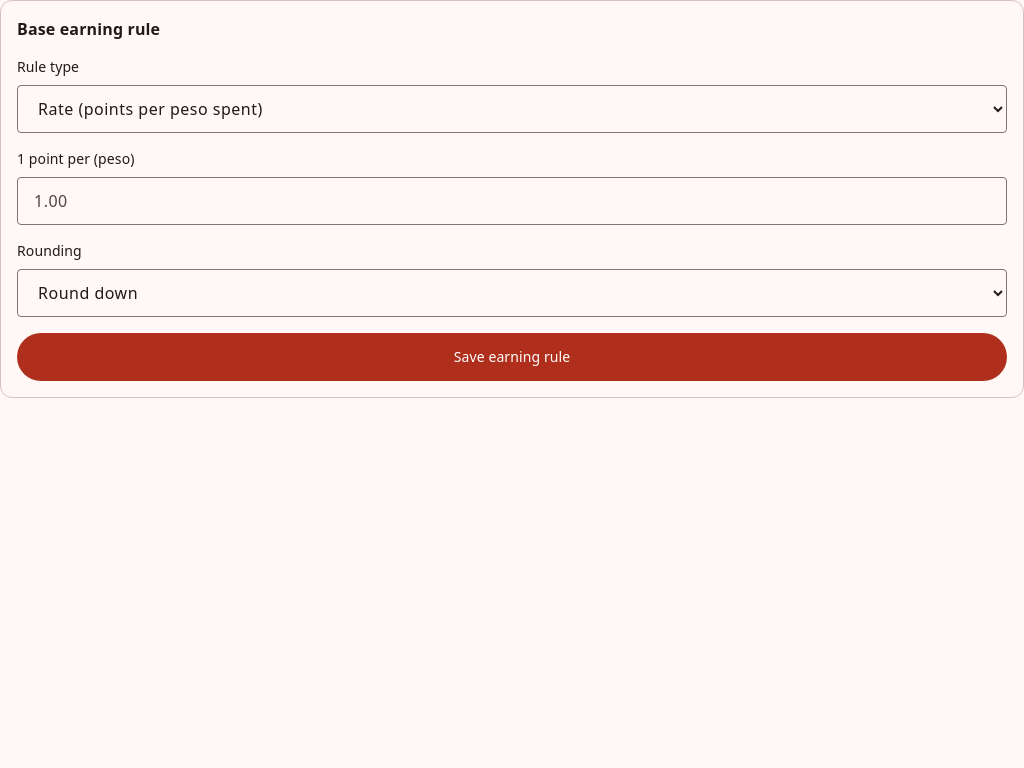
Test: EarningRuleCard receipt preview › CRITICAL: re-estimates the amount already on screen when the rate changes under it
Type "50" into the field labelled "1 point per (peso)" at (512, 201), box x1=17 y1=177 x2=1007 y2=225
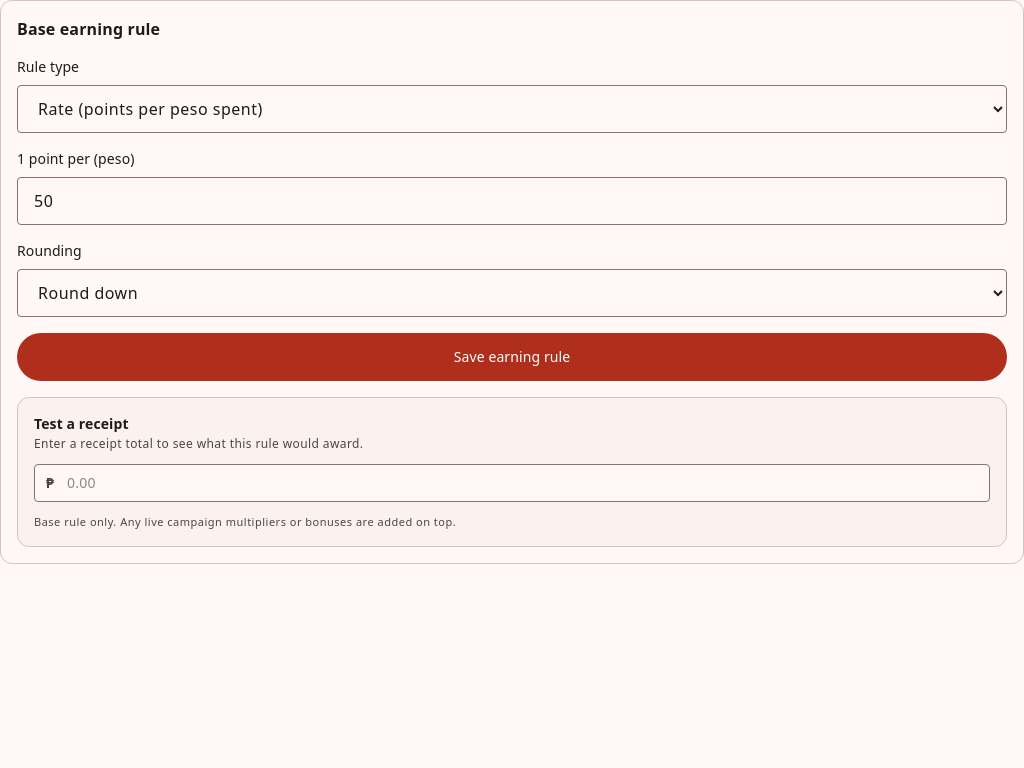
Type "300" into the number field named "Receipt total in pesos" at (512, 483), box x1=34 y1=464 x2=990 y2=502
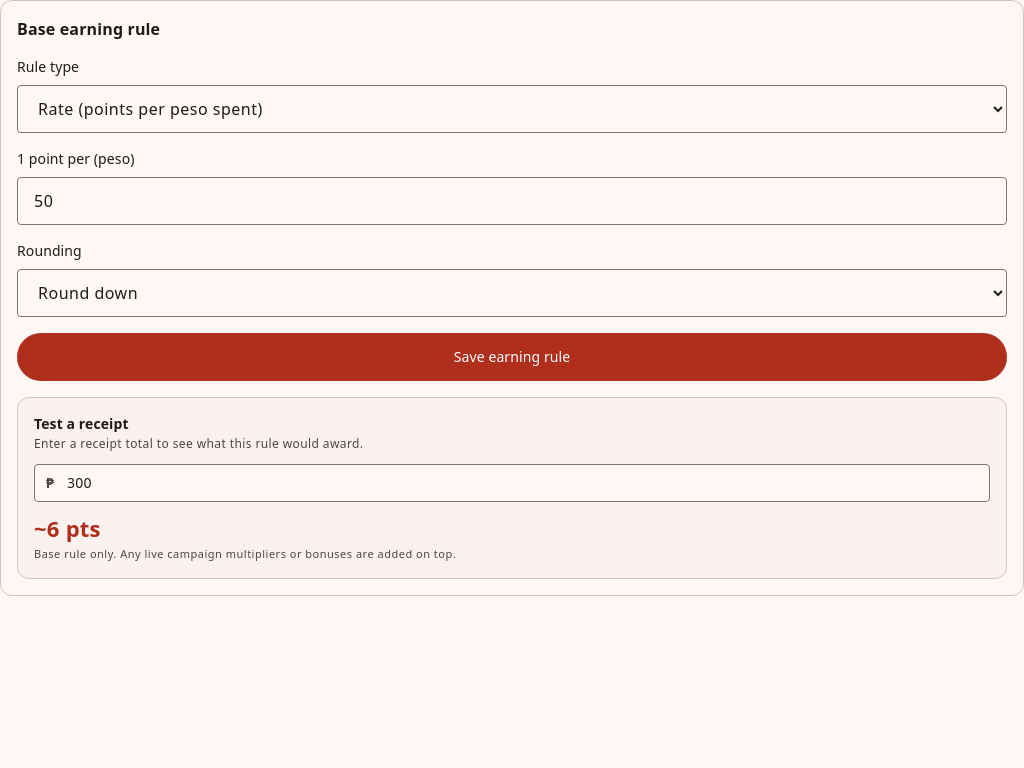
Check: the text "~6 pts" is shown, box x1=34 y1=513 x2=101 y2=543
Replace the text in the field labelled "1 point per (peso)" with "10" at (512, 201), box x1=17 y1=177 x2=1007 y2=225
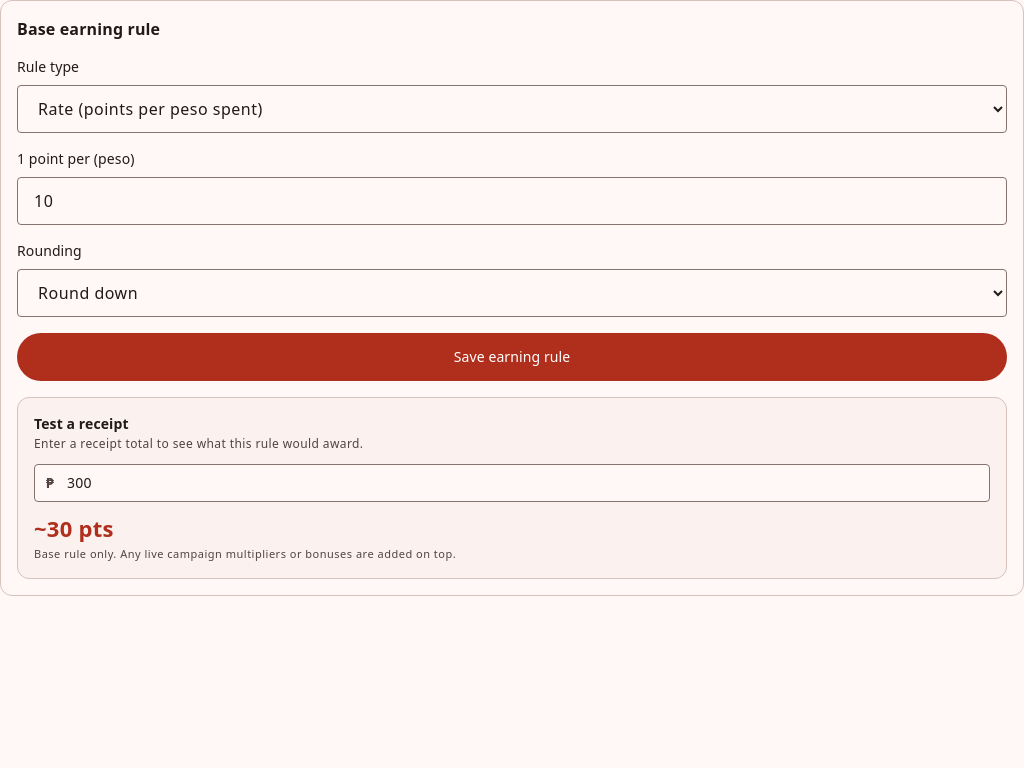
Check: the text "~30 pts" is shown, box x1=34 y1=513 x2=114 y2=543
